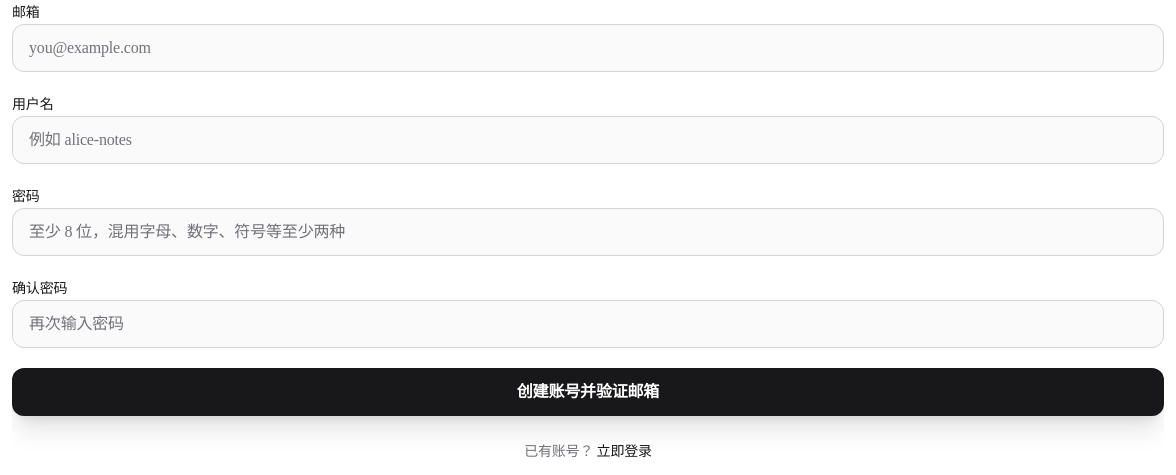
Test case: sends verification before principal onboarding
In the field labelled "用户名": (588, 140) [12, 116, 1164, 164], type "alice-notes"
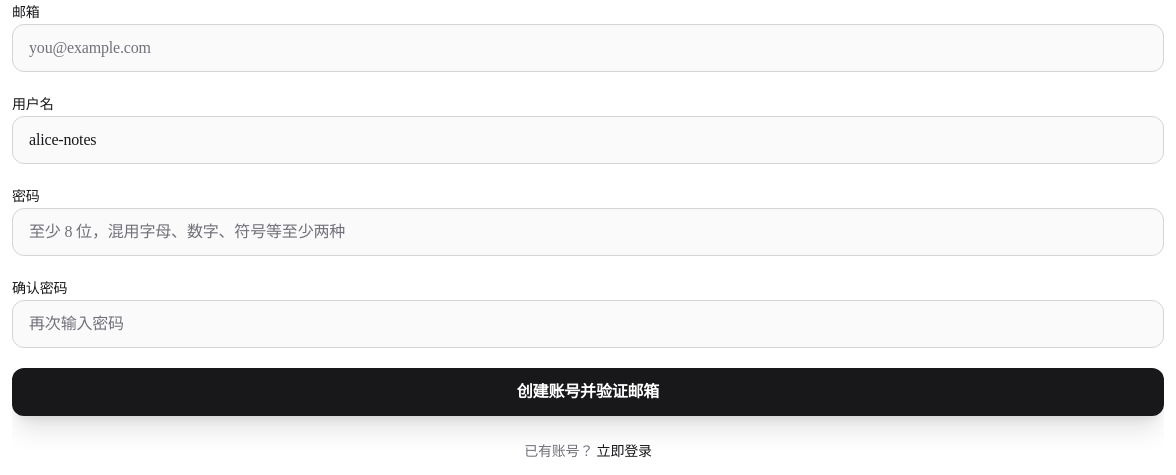
In the field labelled "邮箱": (588, 48) [12, 24, 1164, 72], type "alice@example.com"
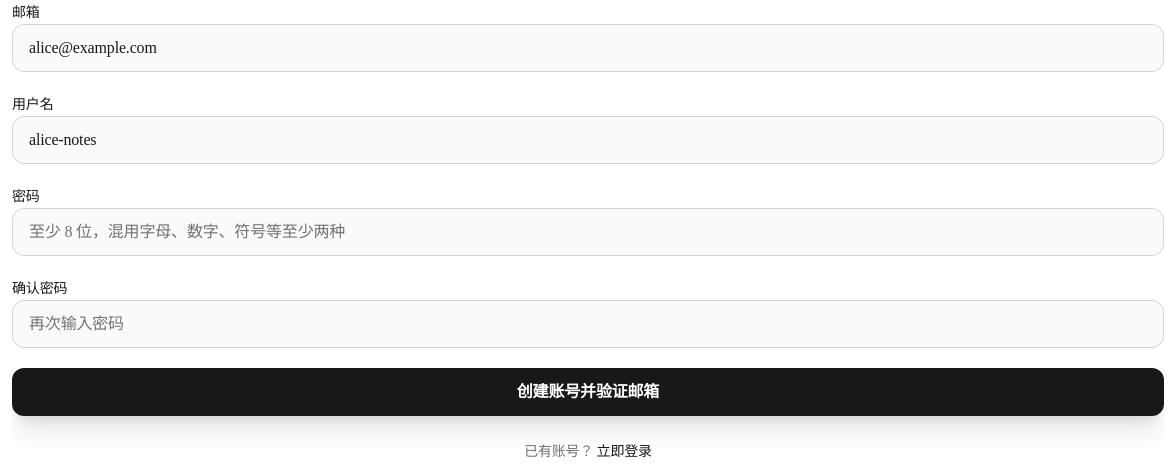
In the password field labelled "密码": (588, 232) [12, 208, 1164, 256], type "Spectra-password-2026"
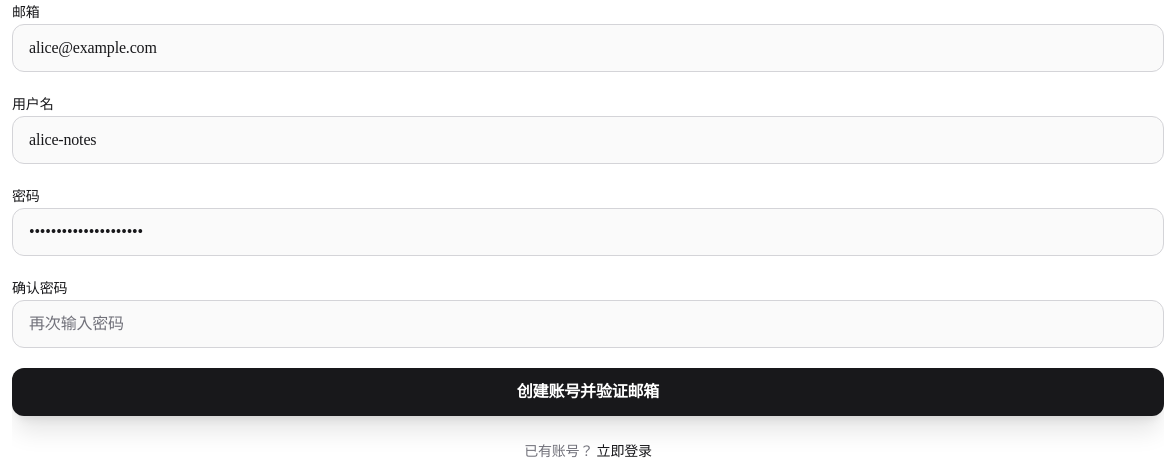
In the password field labelled "确认密码": (588, 324) [12, 300, 1164, 348], type "Spectra-password-2026"
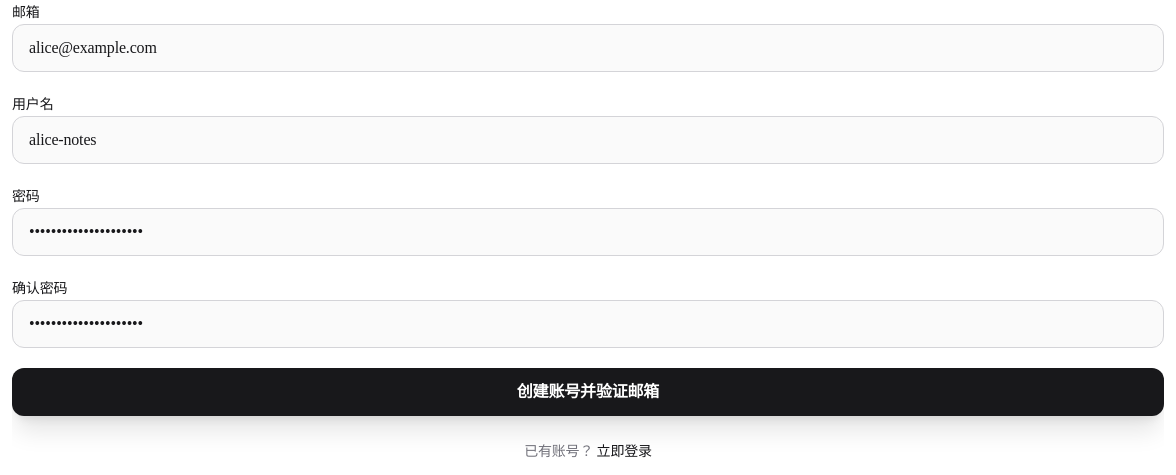
Click the button "创建账号并验证邮箱": click(588, 392) [12, 368, 1164, 416]
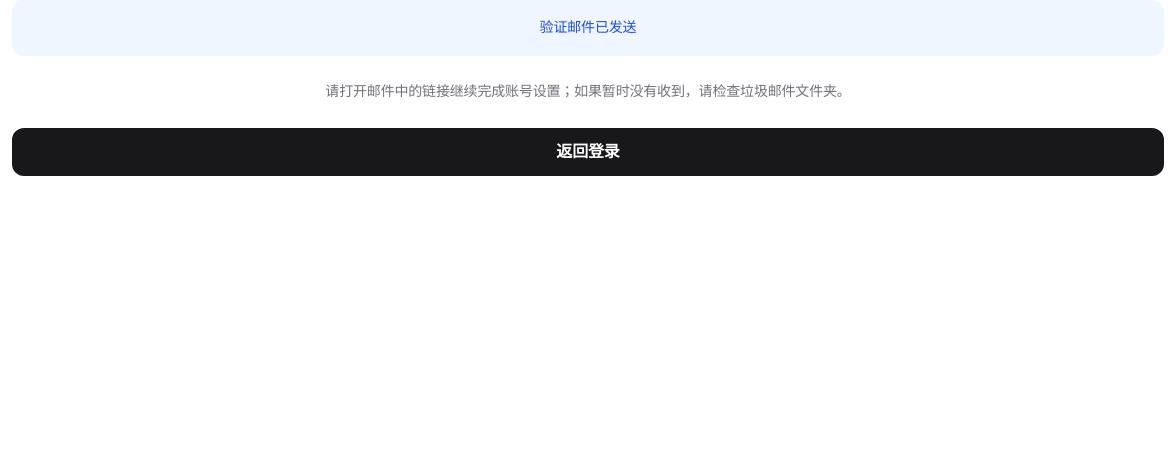
Result: the text "验证邮件已发送" is shown at [12, 0, 1164, 56]
